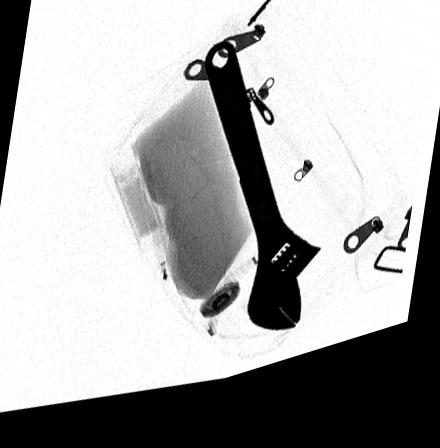Wrench: (200, 51, 322, 349)
